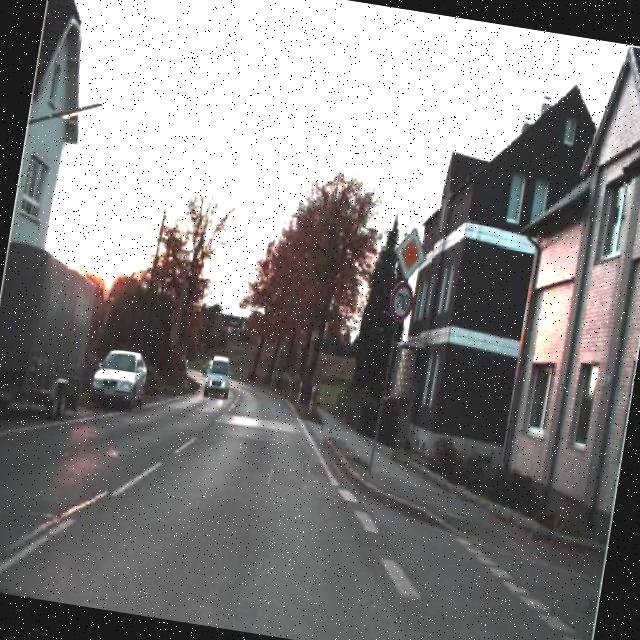Ograniczenie predkosci do 70: (385, 277, 418, 325)
